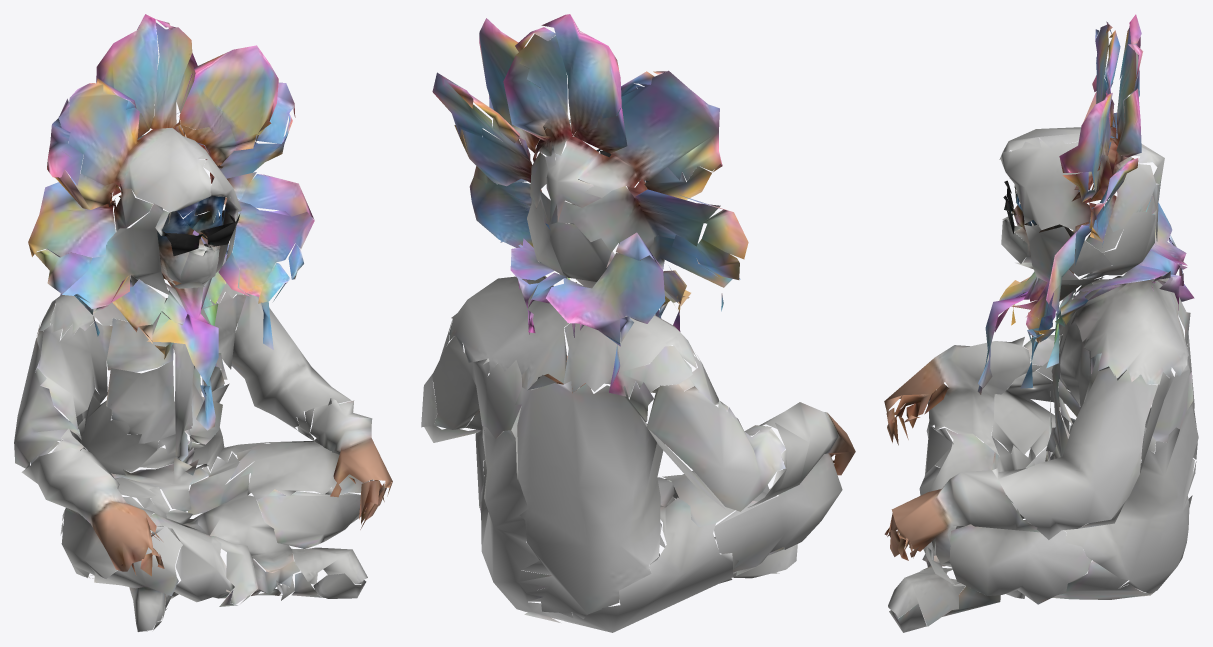
The model's file is crowd_robber.glb.
3 renders of one model, left to right at view 1: azimuth 30°, elevation 25°; view 2: azimuth 150°, elevation 25°; view 3: azimuth 270°, elevation 25°, orthographic. The views are drawn at different scales.
Visible parts, largest first — view 1: tripo_node_d2d8d7c2-effa-49cc-8b4e-33de79e9e200; view 2: tripo_node_d2d8d7c2-effa-49cc-8b4e-33de79e9e200; view 3: tripo_node_d2d8d7c2-effa-49cc-8b4e-33de79e9e200.
Part boxes in pixels (box(x1,y1,x2,y2)): tripo_node_d2d8d7c2-effa-49cc-8b4e-33de79e9e200: box(14, 14, 392, 631); tripo_node_d2d8d7c2-effa-49cc-8b4e-33de79e9e200: box(421, 14, 855, 632); tripo_node_d2d8d7c2-effa-49cc-8b4e-33de79e9e200: box(884, 14, 1198, 632).
Size of the model in its own units: 0.6656 by 1.1 by 0.5543.
1 material, 1 textured.
